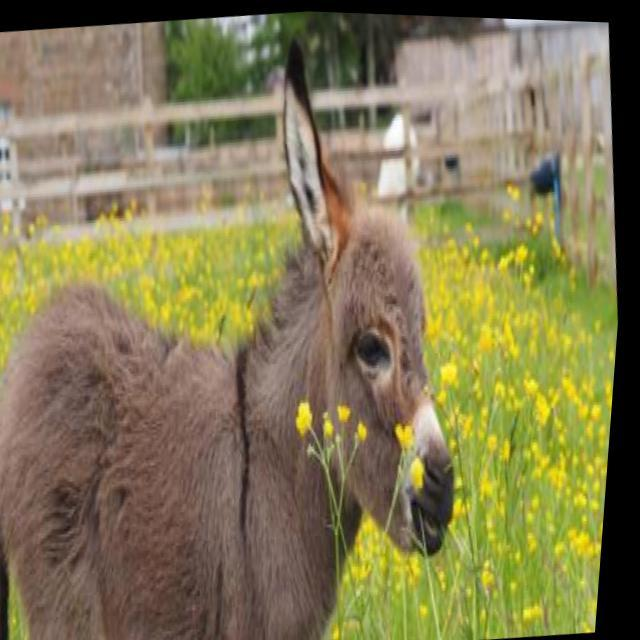Donkey: (0, 15, 503, 640)
